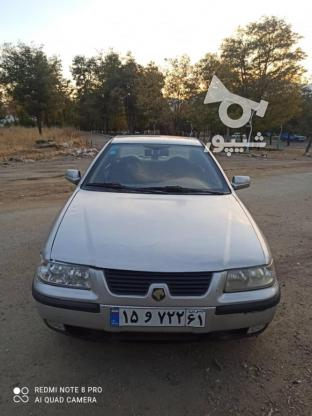car: (111, 308, 207, 328)
